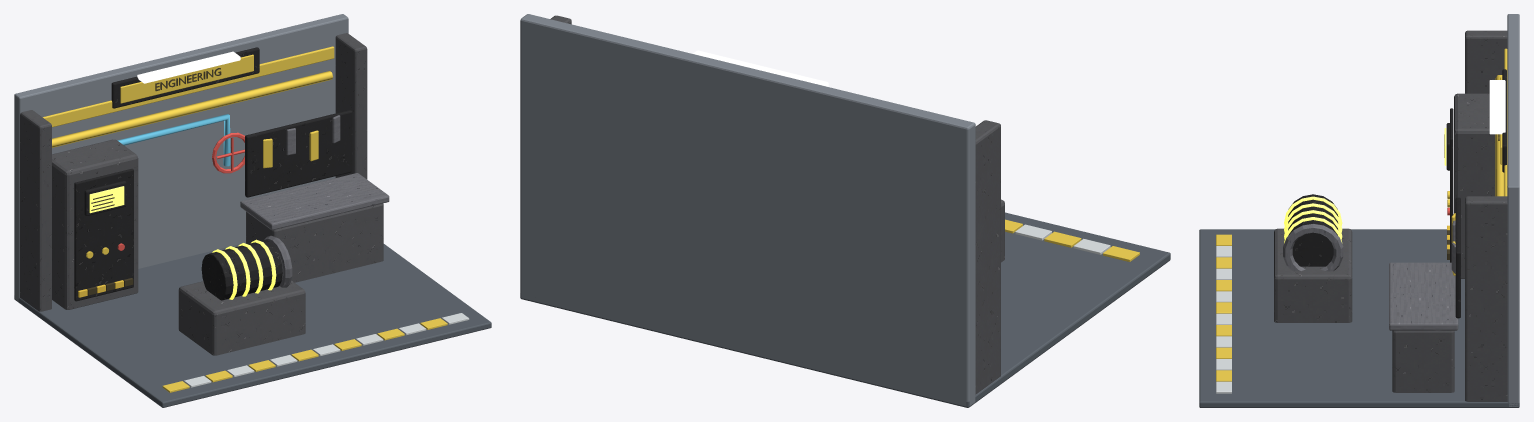
The model's file is department_engineering_starter.glb.
3 renders of one model, left to right at view 1: azimuth 30°, elevation 25°; view 2: azimuth 150°, elevation 25°; view 3: azimuth 270°, elevation 25°, orthographic. The views are drawn at different scales.
Visible parts, largest first — view 1: DEPT_Engineering__Back_Wall, DEPT_Engineering__Floor, DEPT_Engineering__Generator_Base, DEPT_Engineering__Power_Cabinet, DEPT_Engineering__Tool_Bench, DEPT_Engineering__Left_Pilaster, DEPT_Engineering__Tool_Pegboard, DEPT_Engineering__Power_Face, DEPT_Engineering__Tool_Bench_Top, DEPT_Engineering__Right_Pilaster, DEPT_Engineering__Generator_Core, DEPT_Engineering__Wall_Pipe_Hot (+8 smaller); view 2: DEPT_Engineering__Back_Wall, DEPT_Engineering__Floor, DEPT_Engineering__Left_Pilaster, DEPT_Engineering__Ceiling_Light; view 3: DEPT_Engineering__Floor, DEPT_Engineering__Right_Pilaster, DEPT_Engineering__Generator_Base, DEPT_Engineering__Back_Wall, DEPT_Engineering__Tool_Bench_Top, DEPT_Engineering__Power_Cabinet, DEPT_Engineering__Tool_Bench, DEPT_Engineering__Left_Pilaster, DEPT_Engineering__Generator_Core, DEPT_Engineering__Flywheel, DEPT_Engineering__Ceiling_Light, DEPT_Engineering__Tool_Pegboard (+4 smaller).
Boxes of the visible parts, left/top/right/bottom form: DEPT_Engineering__Back_Wall: left=14, top=14, right=348, bottom=301; DEPT_Engineering__Floor: left=14, top=243, right=491, bottom=407; DEPT_Engineering__Generator_Base: left=178, top=274, right=305, bottom=355; DEPT_Engineering__Power_Cabinet: left=52, top=139, right=138, bottom=309; DEPT_Engineering__Tool_Bench: left=246, top=203, right=383, bottom=282; DEPT_Engineering__Left_Pilaster: left=20, top=110, right=51, bottom=311; DEPT_Engineering__Tool_Pegboard: left=245, top=110, right=352, bottom=197; DEPT_Engineering__Power_Face: left=74, top=168, right=133, bottom=301; DEPT_Engineering__Tool_Bench_Top: left=240, top=173, right=389, bottom=230; DEPT_Engineering__Right_Pilaster: left=335, top=33, right=367, bottom=179; DEPT_Engineering__Generator_Core: left=201, top=240, right=282, bottom=300; DEPT_Engineering__Wall_Pipe_Hot: left=52, top=71, right=332, bottom=147; DEPT_Engineering__Back_Wall: left=520, top=14, right=975, bottom=406; DEPT_Engineering__Floor: left=520, top=212, right=1170, bottom=407; DEPT_Engineering__Left_Pilaster: left=975, top=120, right=1000, bottom=394; DEPT_Engineering__Ceiling_Light: left=693, top=50, right=828, bottom=86; DEPT_Engineering__Floor: left=1199, top=229, right=1519, bottom=407; DEPT_Engineering__Right_Pilaster: left=1465, top=196, right=1507, bottom=401; DEPT_Engineering__Generator_Base: left=1274, top=228, right=1352, bottom=322; DEPT_Engineering__Back_Wall: left=1507, top=14, right=1519, bottom=406; DEPT_Engineering__Tool_Bench_Top: left=1389, top=262, right=1458, bottom=330; DEPT_Engineering__Power_Cabinet: left=1454, top=93, right=1495, bottom=278; DEPT_Engineering__Tool_Bench: left=1392, top=330, right=1454, bottom=392; DEPT_Engineering__Left_Pilaster: left=1465, top=30, right=1507, bottom=93; DEPT_Engineering__Generator_Core: left=1288, top=194, right=1338, bottom=266; DEPT_Engineering__Flywheel: left=1283, top=224, right=1343, bottom=271; DEPT_Engineering__Ceiling_Light: left=1489, top=80, right=1505, bottom=134; DEPT_Engineering__Tool_Pegboard: left=1455, top=197, right=1460, bottom=318.
Bounding box in the file's own units: 4.6 × 2.75 × 3.6.
Materials: 13 (3 with a texture image).
